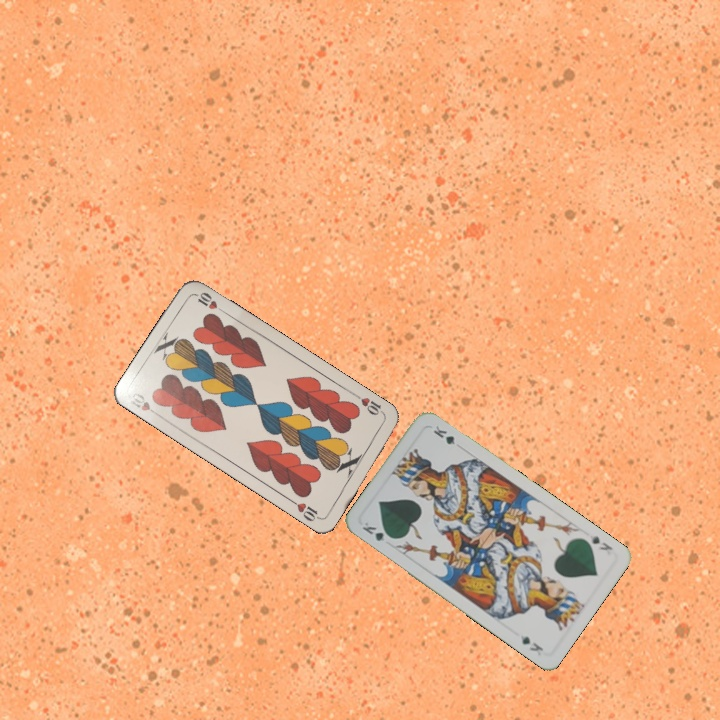GK: (358, 518, 396, 544), (588, 531, 616, 553)
H10: (125, 388, 162, 419), (352, 391, 388, 419)
